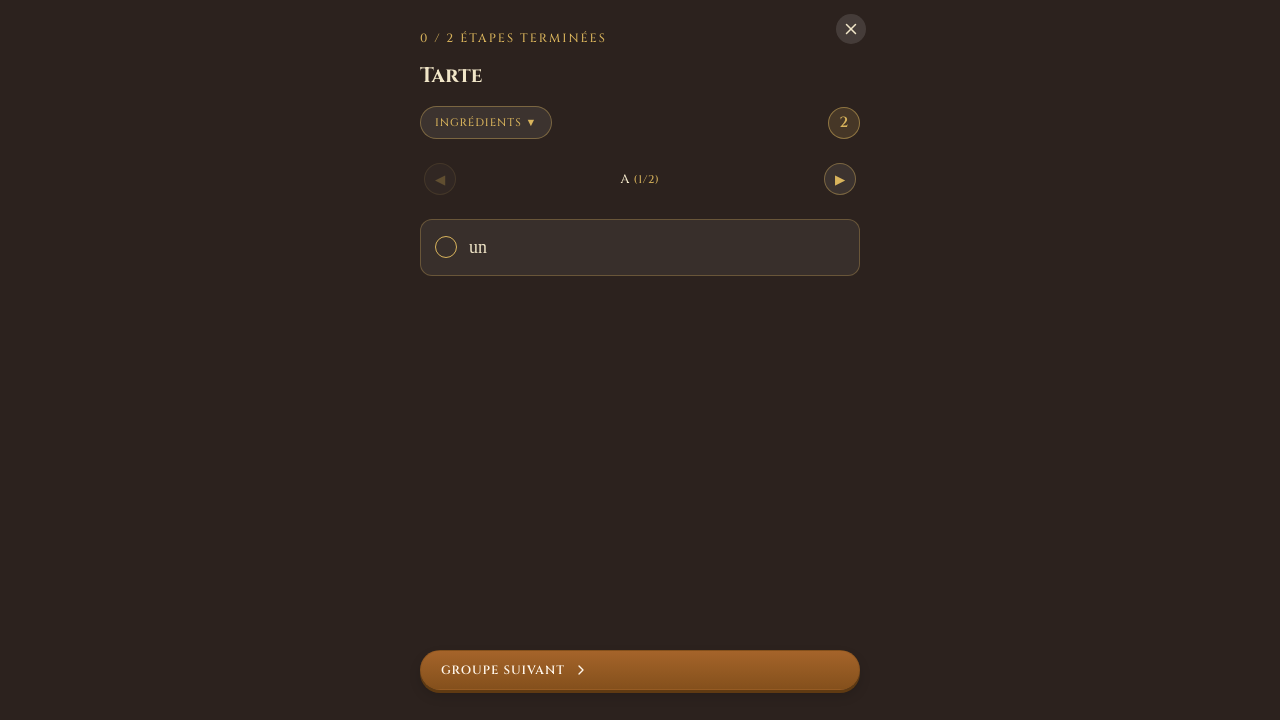
Test: CookMode — photo du plat › seulement sur le dernier groupe d'étapes
Click the button with class "group-nav-btn" showing "▶": (840, 179) [824,163,856,195]
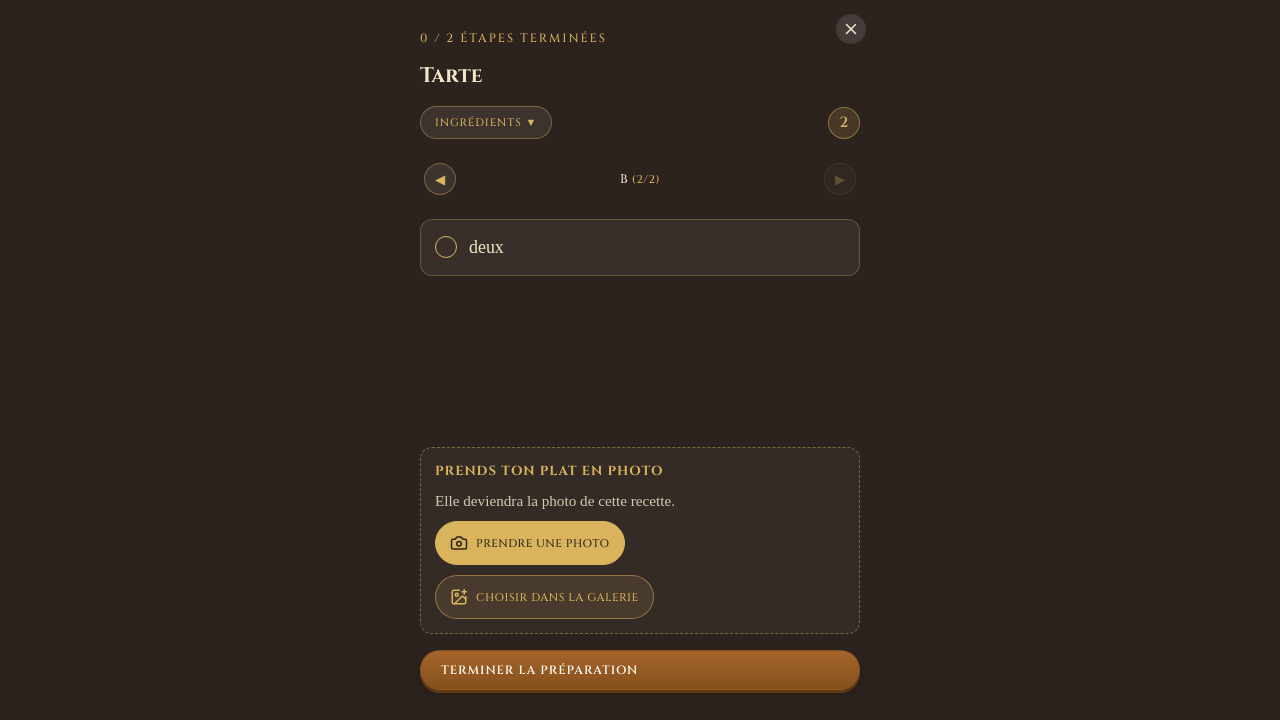
Expected: the element with class "cookmode-photo" is shown, [420,447,860,634]
